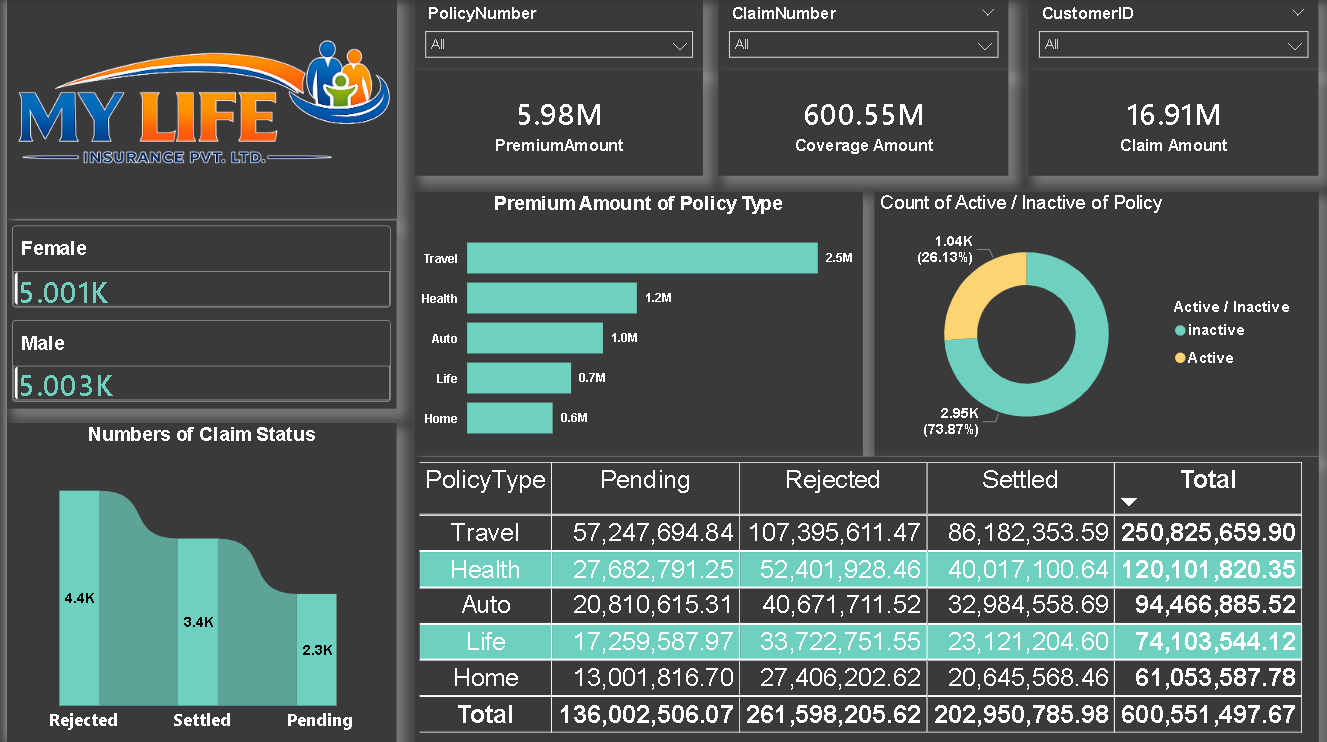

The page's visual inventory and layout, read from the dashboard file:
{"tool":"powerbi","page":{"name":"Insurance Report","canvas":[1280,720],"ordinal":0},"visuals":[{"type":"slicer","fields":{"Values":["InsuranceData.PolicyNumber"]},"box":[393.8,0,278.8,70],"z":0},{"type":"slicer","fields":{"Values":["InsuranceData.ClaimNumber"]},"box":[686.2,0,280,70],"z":1000},{"type":"slicer","fields":{"Values":["InsuranceData.CustomerID"]},"box":[986.2,0,280,70],"z":2000},{"type":"image","box":[0,0,376.2,213.8],"z":3000},{"type":"cardVisual","fields":{"Data":["Sum(InsuranceData.PremiumAmount)"]},"box":[393.8,70,278.8,101.2],"z":4000},{"type":"cardVisual","fields":{"Data":["Sum(InsuranceData.ClaimAmount)"]},"box":[986.2,70,280,101.2],"z":5000},{"type":"cardVisual","fields":{"Data":["Sum(InsuranceData.CoverageAmount)"]},"box":[686.2,70,280,101.2],"z":6000},{"type":"cardVisual","fields":{"Rows":["InsuranceData.Gender"],"Data":["CountNonNull(InsuranceData.Gender)"]},"box":[0,215,376.2,181.2],"z":7000},{"type":"ribbonChart","title":"Numbers of Claim Status ","fields":{"Category":["InsuranceData.ClaimStatus"],"Y":["CountNonNull(InsuranceData.ClaimStatus)"]},"box":[0,410,376.2,310],"z":8000},{"type":"barChart","title":"Premium Amount of Policy Type","fields":{"Category":["InsuranceData.PolicyType"],"Y":["Sum(InsuranceData.PremiumAmount)"]},"box":[393.8,187.5,432.5,255],"z":9000},{"type":"donutChart","title":"Count of Active / Inactive of Policy","fields":{"Y":["CountNonNull(InsuranceData.Active/inactive)"],"Category":["InsuranceData.Active/inactive"]},"box":[837.5,187.5,428.8,255],"z":10000},{"type":"pivotTable","fields":{"Rows":["InsuranceData.PolicyType"],"Values":["Sum(InsuranceData.CoverageAmount)"],"Columns":["InsuranceData.ClaimStatus"]},"box":[393.8,442.5,872.5,277.5],"z":11000}]}

Visuals, with their boxes in screenshot pixels (x1, y1, x2, y2), scaled from the page's 1280x720 canvas onto the 1327x742 screenshot:
slicer - InsuranceData.PolicyNumber: Rect(408, 0, 697, 72)
slicer - InsuranceData.ClaimNumber: Rect(711, 0, 1002, 72)
slicer - InsuranceData.CustomerID: Rect(1022, 0, 1313, 72)
image: Rect(0, 0, 390, 220)
cardVisual - Sum(InsuranceData.PremiumAmount): Rect(408, 72, 697, 176)
cardVisual - Sum(InsuranceData.ClaimAmount): Rect(1022, 72, 1313, 176)
cardVisual - Sum(InsuranceData.CoverageAmount): Rect(711, 72, 1002, 176)
cardVisual - InsuranceData.Gender x CountNonNull(InsuranceData.Gender): Rect(0, 222, 390, 408)
"Numbers of Claim Status " ribbonChart: Rect(0, 423, 390, 741)
"Premium Amount of Policy Type" barChart: Rect(408, 193, 857, 456)
"Count of Active / Inactive of Policy" donutChart: Rect(868, 193, 1313, 456)
pivotTable - InsuranceData.PolicyType x Sum(InsuranceData.CoverageAmount): Rect(408, 456, 1313, 741)
